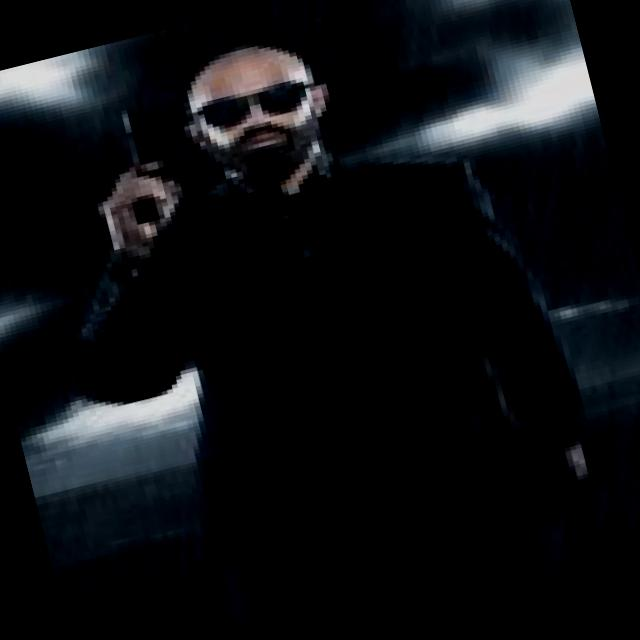handgun: (102, 99, 165, 226)
